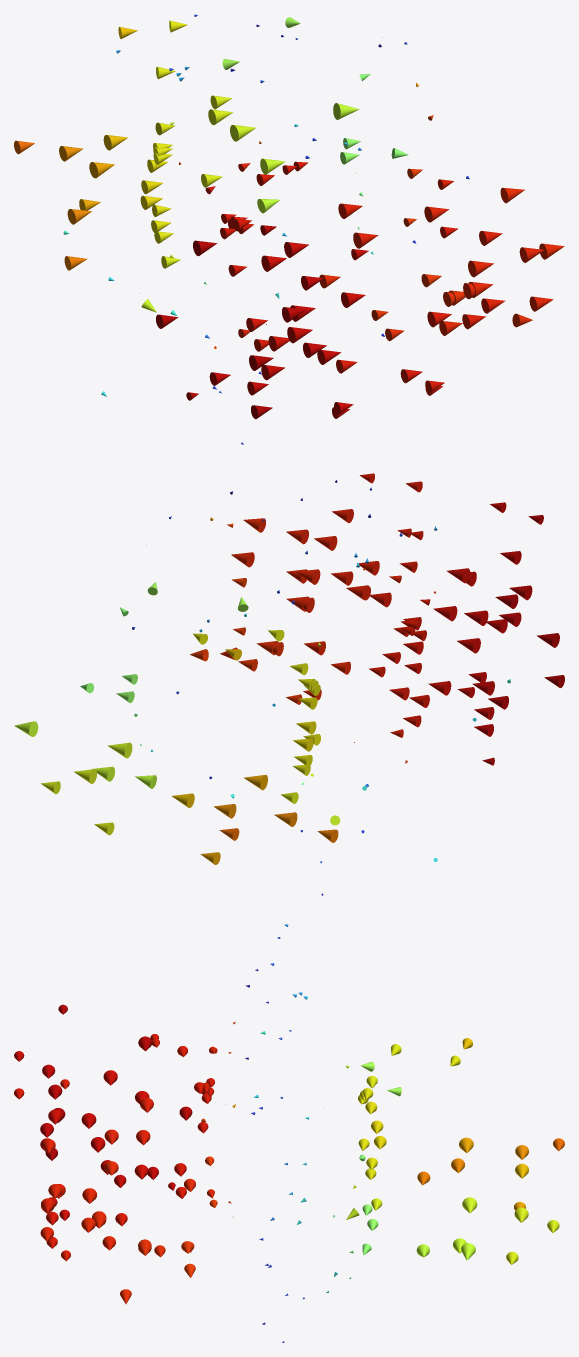
The model's file is LineasCorrienteH2-O2_mh2-1.38_V-1.glb.
3 views of the same model, one above another, from view 1: azimuth 30°, elevation 25°; view 2: azimuth 150°, elevation 25°; view 3: azimuth 270°, elevation 25° (orthographic). The views are drawn at different scales.
Size of the model in its own units: 0.000925 by 0.00095 by 0.00123.
Materials: 2 (2 with a texture image).
